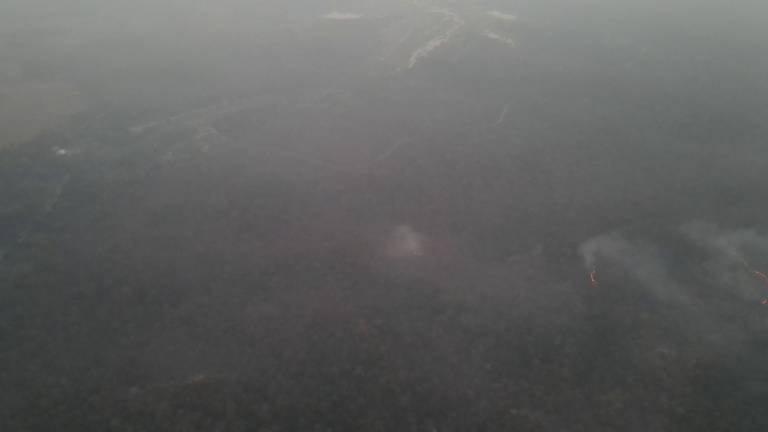fire: (733, 249, 768, 280), (583, 255, 602, 291), (411, 246, 426, 257), (758, 297, 768, 308)
smoke: (570, 214, 767, 320), (373, 222, 427, 269)
